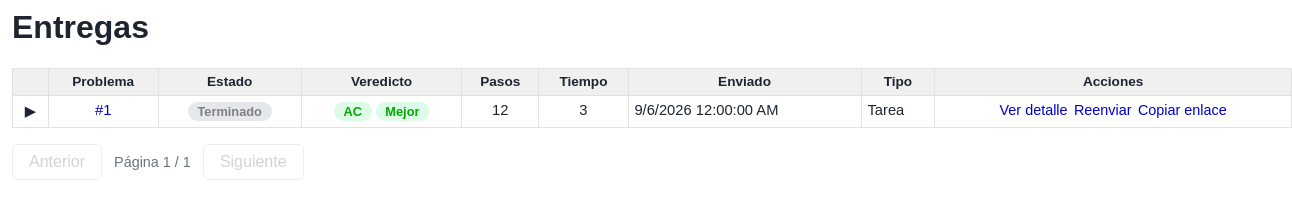
Test: Bug A — submissions actions column › Copiar enlace writes /submissions#<id> to the clipboard and confirms
Expected: the link "#1" is shown, [95,102,111,118]
Click the button "Copiar enlace": (1182, 110) [1138,102,1227,118]
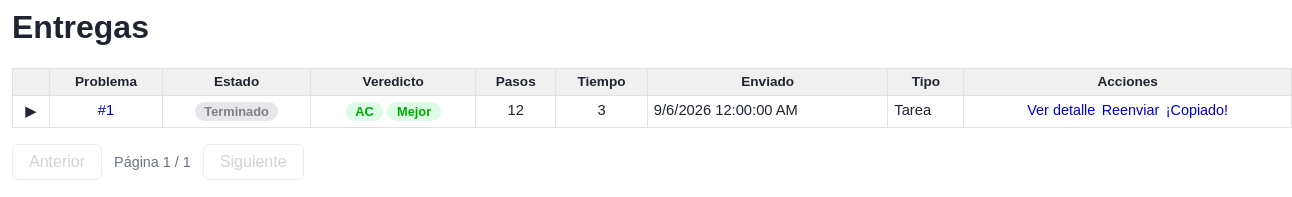
Result: the button "¡Copiado!" is shown at [1166,102,1228,118]
